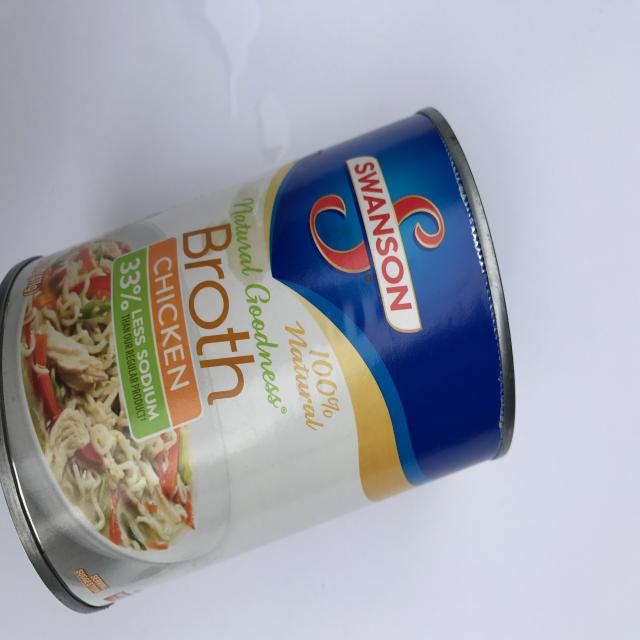metal: (0, 105, 517, 614)
